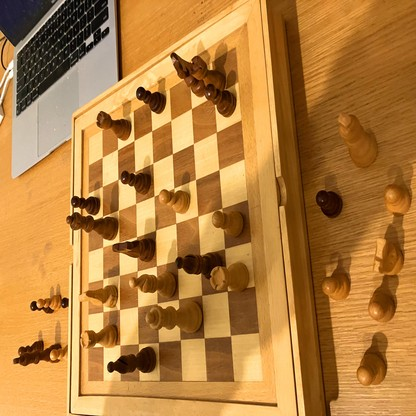bishop_black: (175, 252, 225, 279), (108, 346, 157, 373)
bishop_white: (128, 271, 175, 299)
king_black: (14, 342, 61, 366)
king_white: (338, 110, 378, 167)
knight_black: (171, 52, 205, 97), (112, 239, 156, 261)
knight_white: (373, 239, 404, 274), (79, 285, 117, 307)
pawn_black: (204, 85, 236, 117), (136, 87, 165, 113), (121, 171, 150, 194), (317, 191, 342, 217), (71, 197, 99, 215)
pawn_white: (358, 354, 386, 386), (384, 184, 411, 214), (213, 211, 243, 238), (369, 291, 395, 322), (158, 191, 190, 214), (321, 276, 350, 301), (37, 296, 61, 311)
queen_black: (67, 215, 119, 240)
queen_white: (146, 301, 202, 334)
rock_black: (190, 56, 225, 90), (97, 112, 132, 139)
rock_white: (210, 262, 249, 293), (81, 323, 117, 349)
